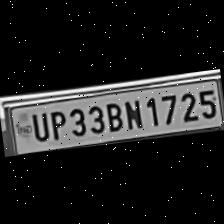1: (140, 92, 160, 126)
2: (175, 88, 198, 122)
3: (64, 103, 87, 136), (84, 99, 105, 133)
5: (193, 84, 218, 119)
7: (156, 90, 178, 125)
B: (101, 97, 123, 131)
N: (120, 95, 144, 130)
P: (44, 106, 68, 140)
U: (26, 107, 48, 141)
